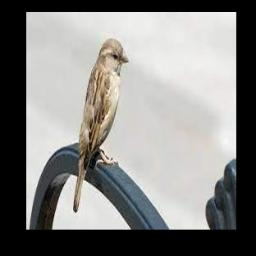Sparrow: (72, 38, 128, 213)
